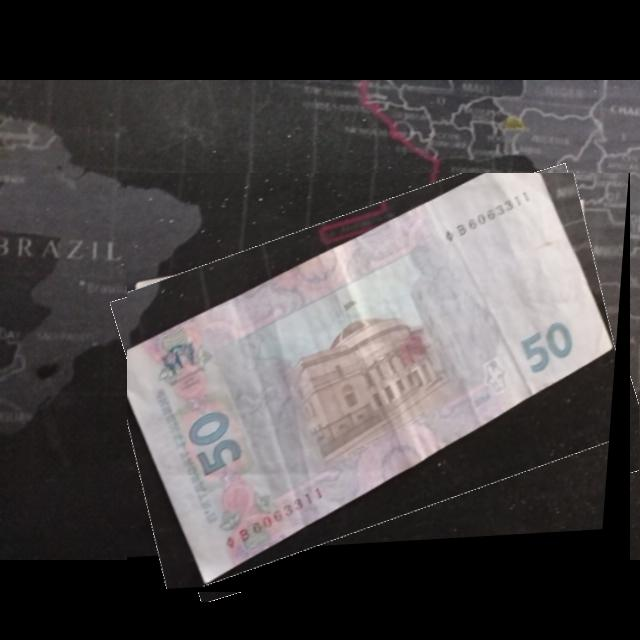50uah: (127, 173, 620, 588)
